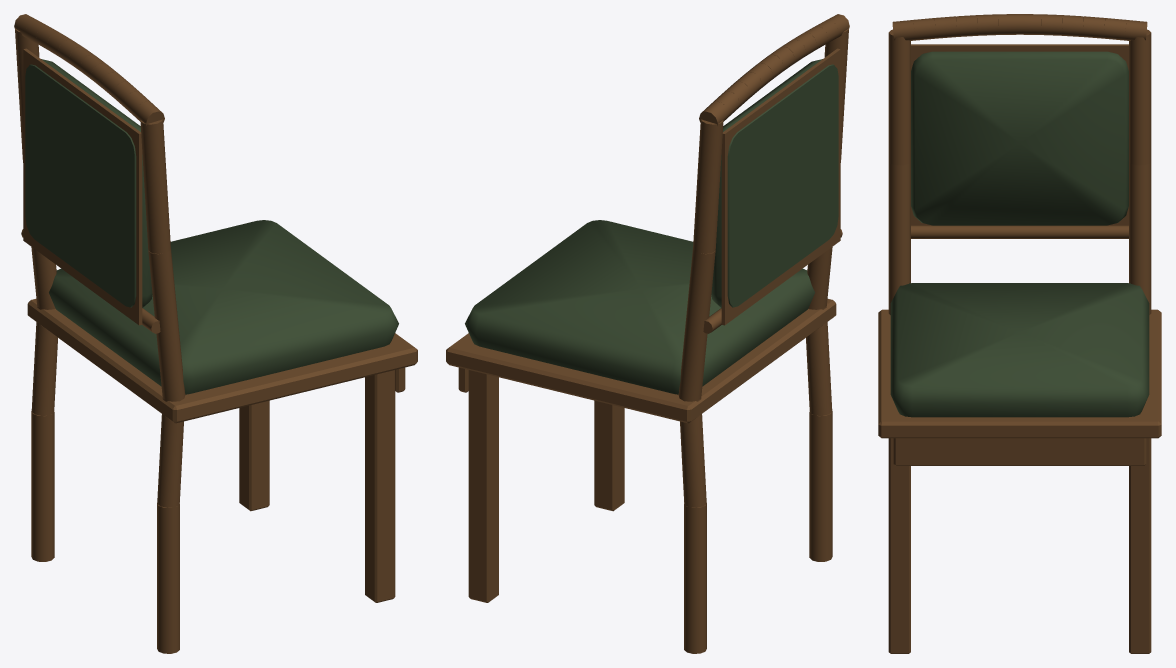
Rendered from parametric-chair-1st-pub.glb.
The picture shows the model from 3 angles, left to right: view 1: azimuth 30°, elevation 25°; view 2: azimuth 150°, elevation 25°; view 3: azimuth 270°, elevation 25°; orthographic projection. The views are drawn at different scales.
Parts seen in each view (by area): view 1: parametric-chair-1st-pub; view 2: parametric-chair-1st-pub; view 3: parametric-chair-1st-pub.
Part boxes in pixels (x1,y1,x2,y2): parametric-chair-1st-pub: (14,14,417,653); parametric-chair-1st-pub: (446,14,849,653); parametric-chair-1st-pub: (878,14,1161,653).
Bounding box in the file's own units: 0.4771 × 0.9462 × 0.46.
